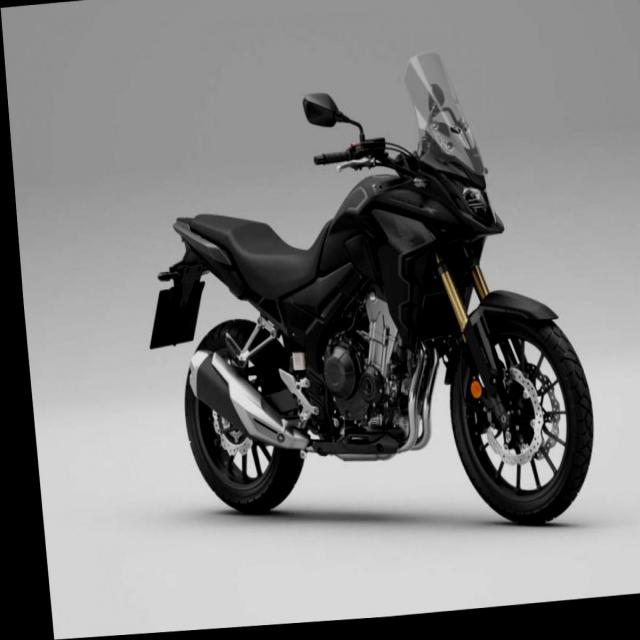CB500X: (122, 46, 595, 563)
